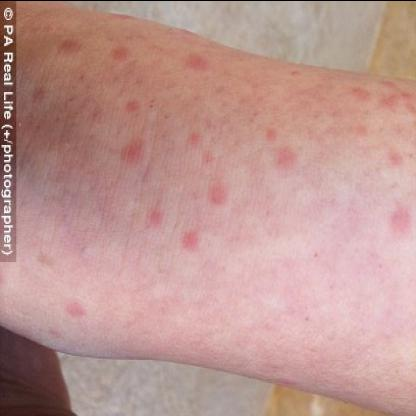Bed Bug: (380, 71, 415, 130), (344, 79, 374, 140), (386, 193, 414, 246), (190, 124, 218, 170), (56, 29, 90, 66), (183, 46, 215, 82), (116, 136, 148, 167), (274, 146, 300, 182), (378, 146, 406, 178), (29, 81, 51, 117), (64, 294, 92, 320), (108, 40, 132, 70), (124, 90, 144, 124), (145, 204, 167, 231), (181, 227, 202, 253), (212, 180, 232, 206), (109, 10, 143, 23), (264, 122, 280, 140)
